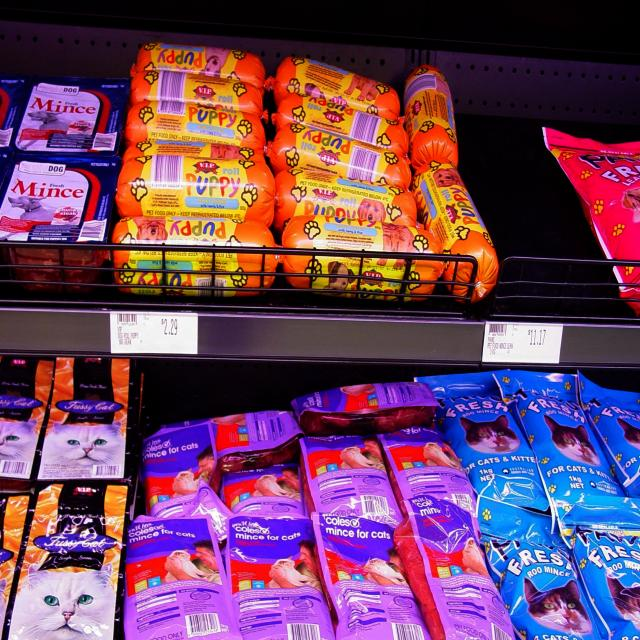empty_space: (494, 88, 588, 286)
